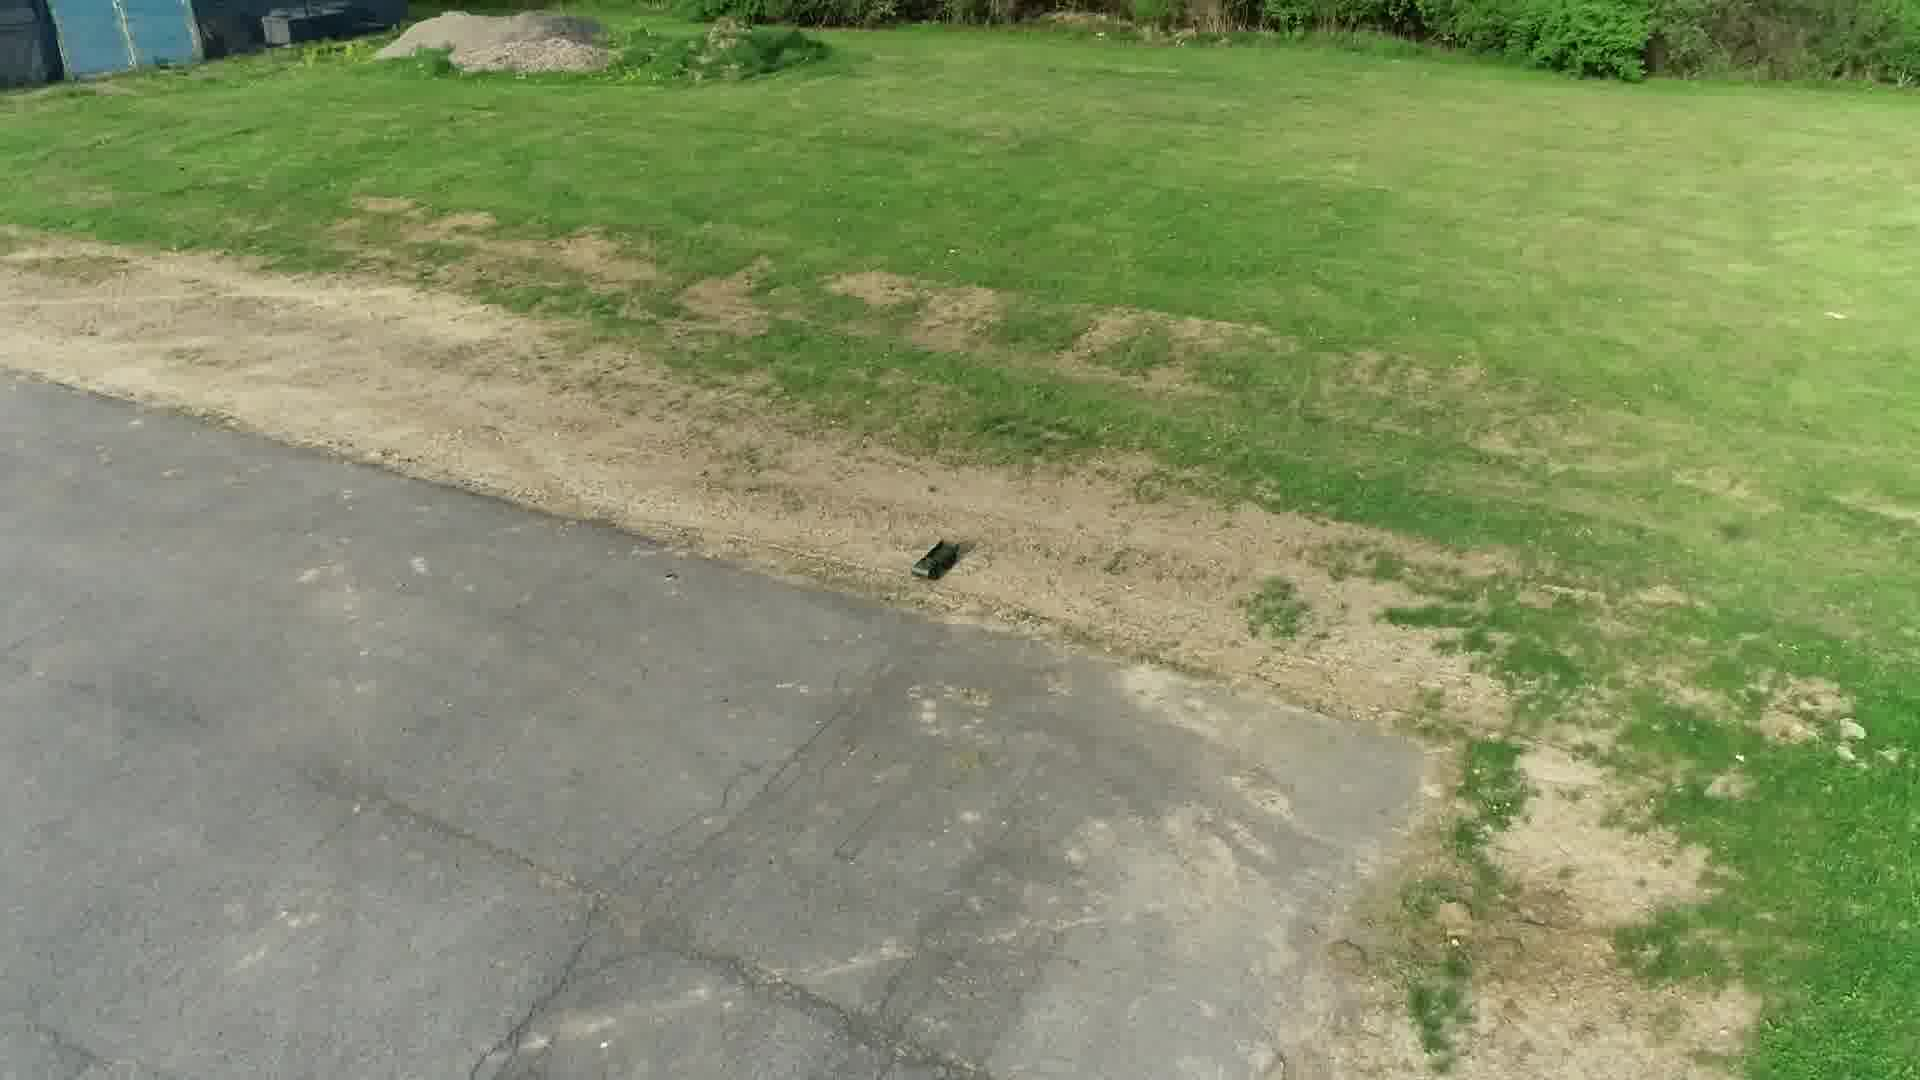transporter9: (909, 537, 963, 582)
